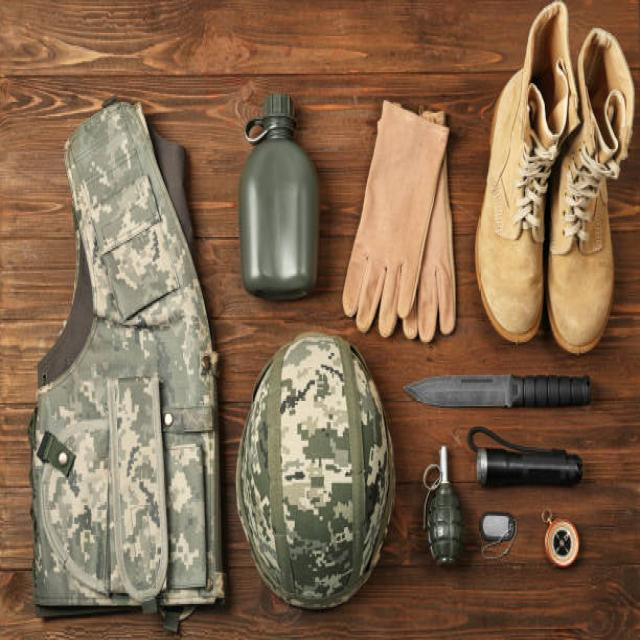grenade: (422, 442, 470, 580)
